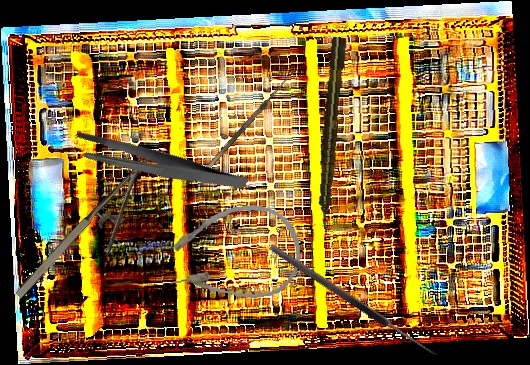Cannula: (160, 200, 306, 308)
Dressing Forceps: (70, 96, 249, 232)
Handpiece: (313, 36, 349, 230)
Hook Surgical: (268, 235, 444, 359), (201, 66, 296, 170)
Needle Holder: (11, 155, 176, 321)
